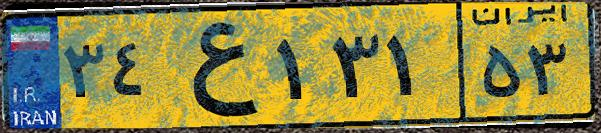1: (270, 28, 330, 110), (385, 28, 445, 110)
3: (330, 28, 385, 110), (57, 26, 110, 100), (525, 38, 570, 115)
4: (110, 28, 158, 98)
5: (475, 38, 525, 113)
ع: (158, 12, 270, 120)
